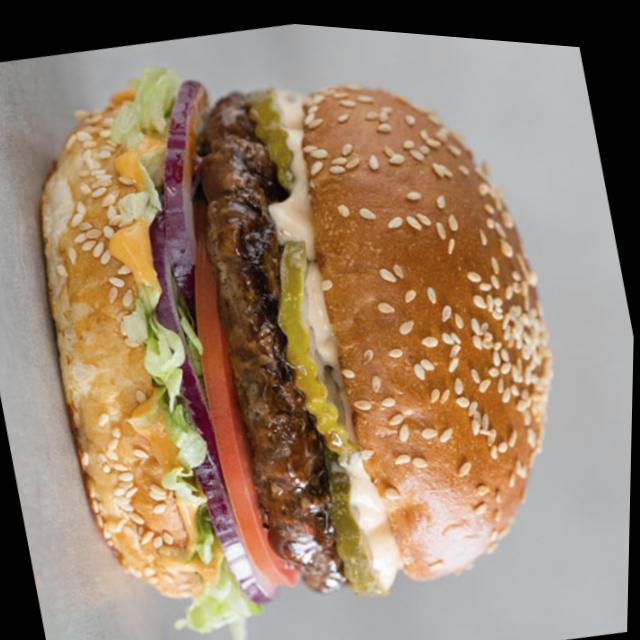burger: (0, 1, 606, 640)
